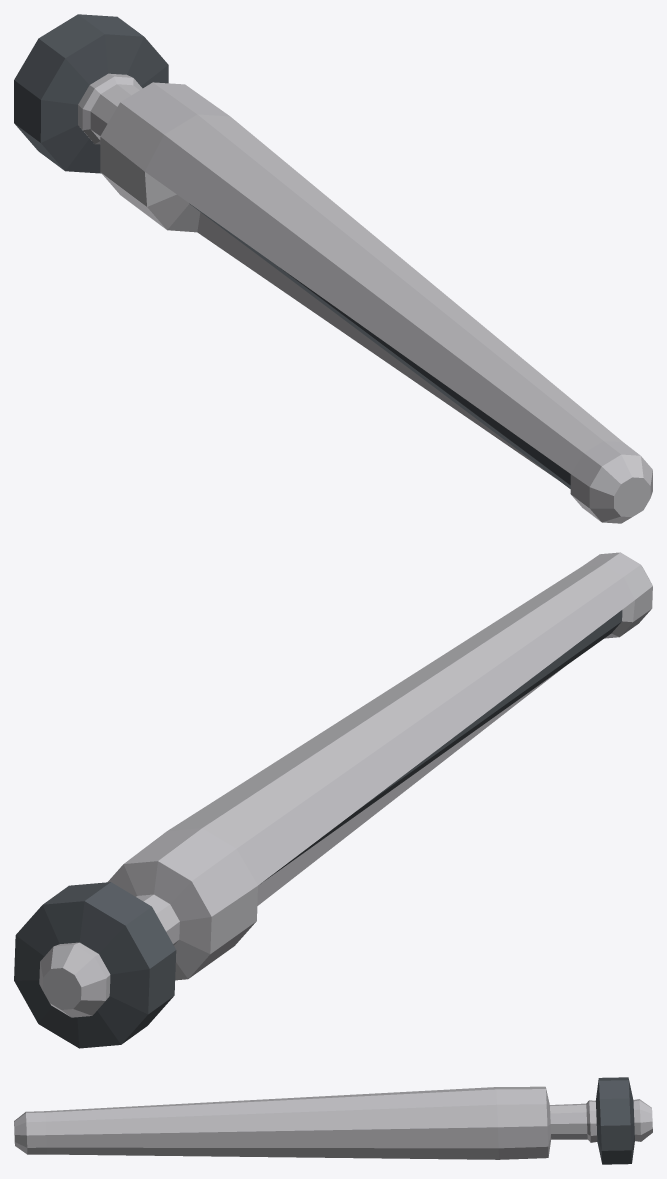
File: Fighter_07_MiniGun.fbx
The picture shows the model from 3 angles, top to bottom: view 1: azimuth 30°, elevation 25°; view 2: azimuth 150°, elevation 25°; view 3: azimuth 270°, elevation 25°; orthographic projection. The views are drawn at different scales.
Visible parts, largest first — view 1: Fighter_07_MiniGun; view 2: Fighter_07_MiniGun; view 3: Fighter_07_MiniGun.
Boxes of the visible parts, x1,y1,x2,y2 form: Fighter_07_MiniGun: (14,14,652,523); Fighter_07_MiniGun: (14,552,652,1048); Fighter_07_MiniGun: (14,1077,652,1164).
Bounding box in the file's own units: 61.54 × 64.42 × 461.
Materials: 2 (2 with a texture image).
